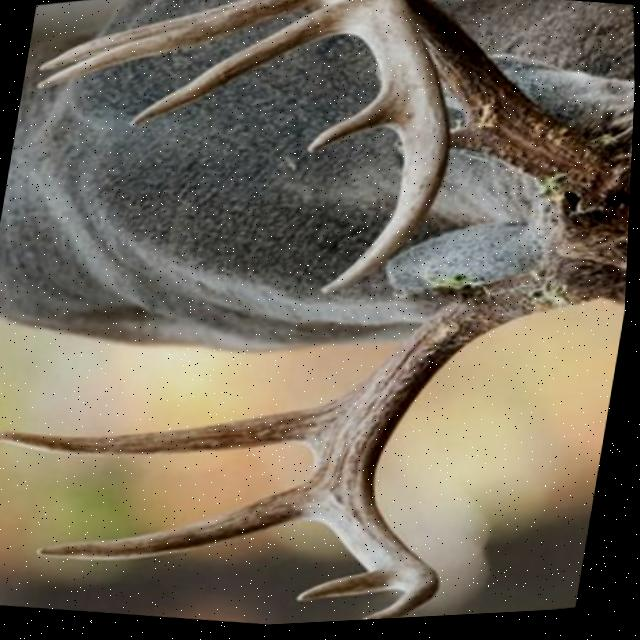L-F: (316, 0, 634, 300)
L-G3: (25, 0, 318, 92)
L-G4: (124, 9, 347, 131)
L-G5: (305, 87, 399, 156)
R-F: (316, 269, 590, 624)
R-G1: (403, 286, 492, 307)
R-G2: (0, 396, 349, 458)
R-G3: (32, 481, 328, 562)
R-G4: (299, 576, 403, 607)
